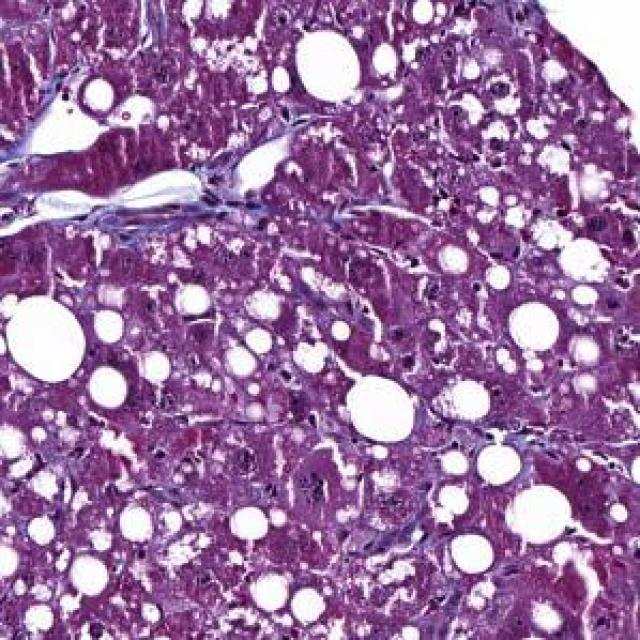fibrosis: (99, 167, 252, 255)
